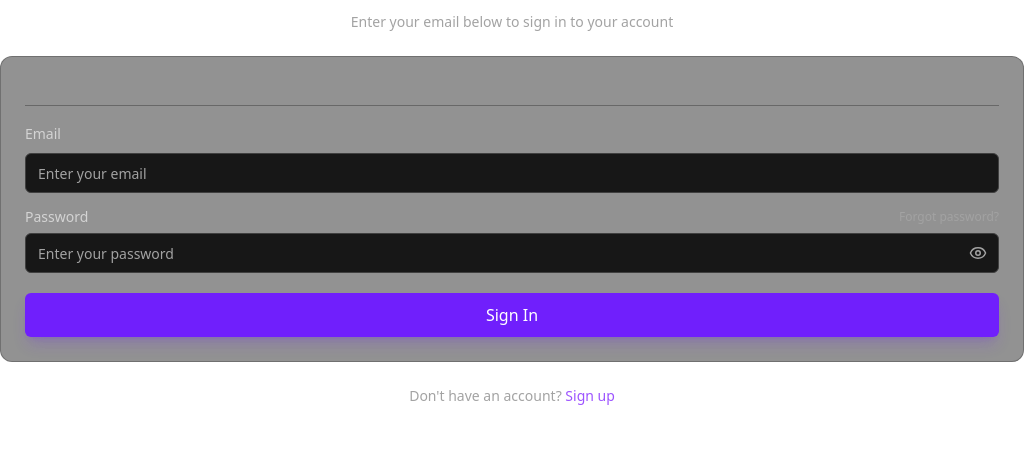
Scenario: LoginPage › Form Submission › should handle authentication errors
This screenshot has width=1024, height=466.
Type "test@example.com" into the field with placeholder "Enter your email".
click(512, 173); type("test@example.com")  # box x1=25 y1=153 x2=999 y2=193
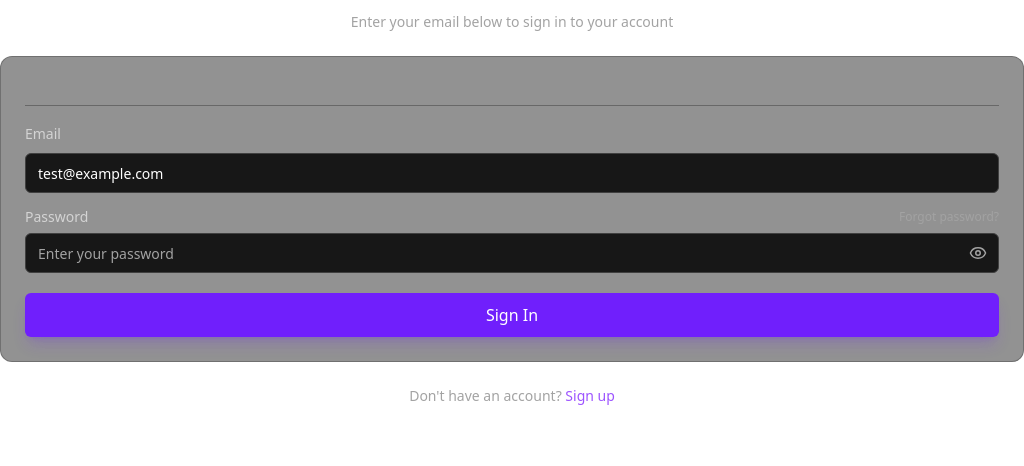
Type "wrongpassword" into the password field with placeholder "Enter your password".
click(512, 253); type("wrongpassword")  # box x1=25 y1=233 x2=999 y2=273
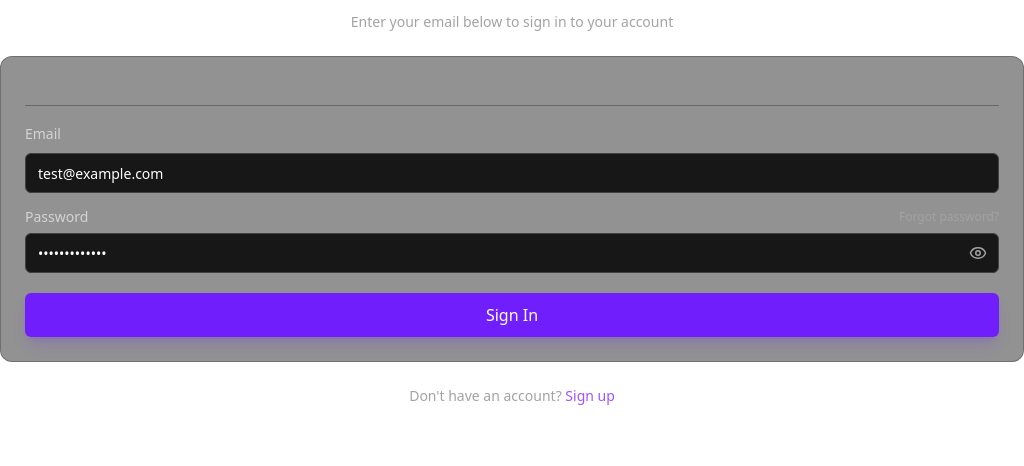
Click the button "Sign In".
click(512, 315)  # box x1=25 y1=293 x2=999 y2=337
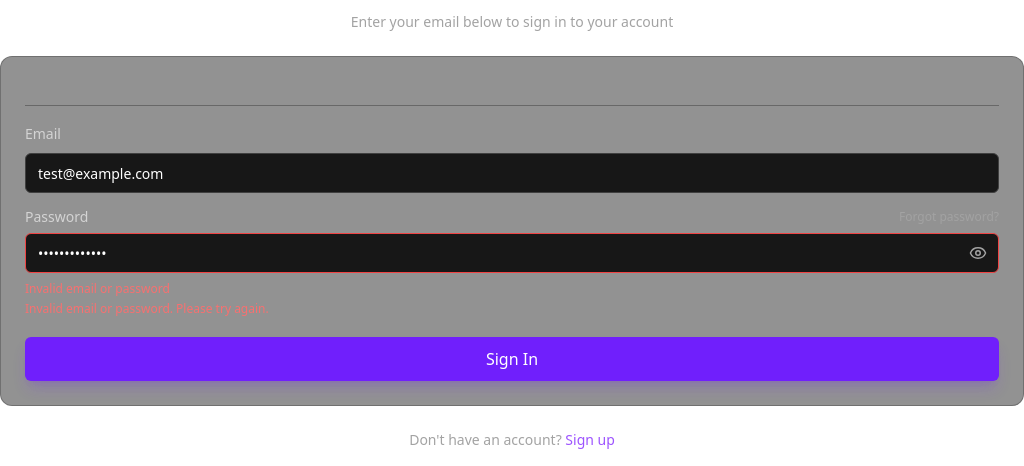
Now the text "Invalid email or password" is shown, box x1=25 y1=280 x2=170 y2=297
